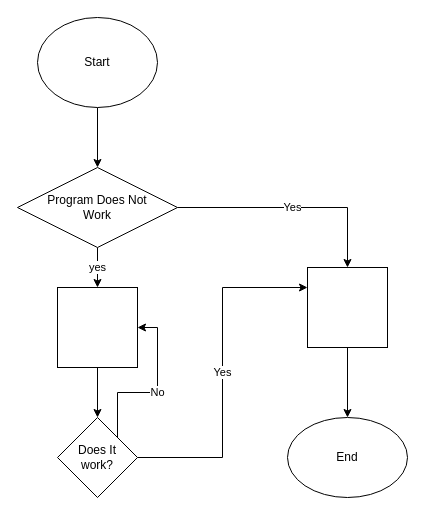
Some shapes in this 425 by 515 pixel diagram are drawn without their labels. The box of each missing label's shape, as (x1, y1, x2, y2) in pixels:
debug it: (56, 286, 138, 368)
Run It: (306, 266, 388, 348)
